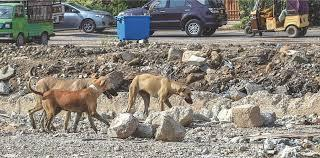normal_dogs: (32, 70, 120, 136), (26, 81, 122, 129), (125, 70, 197, 121)
